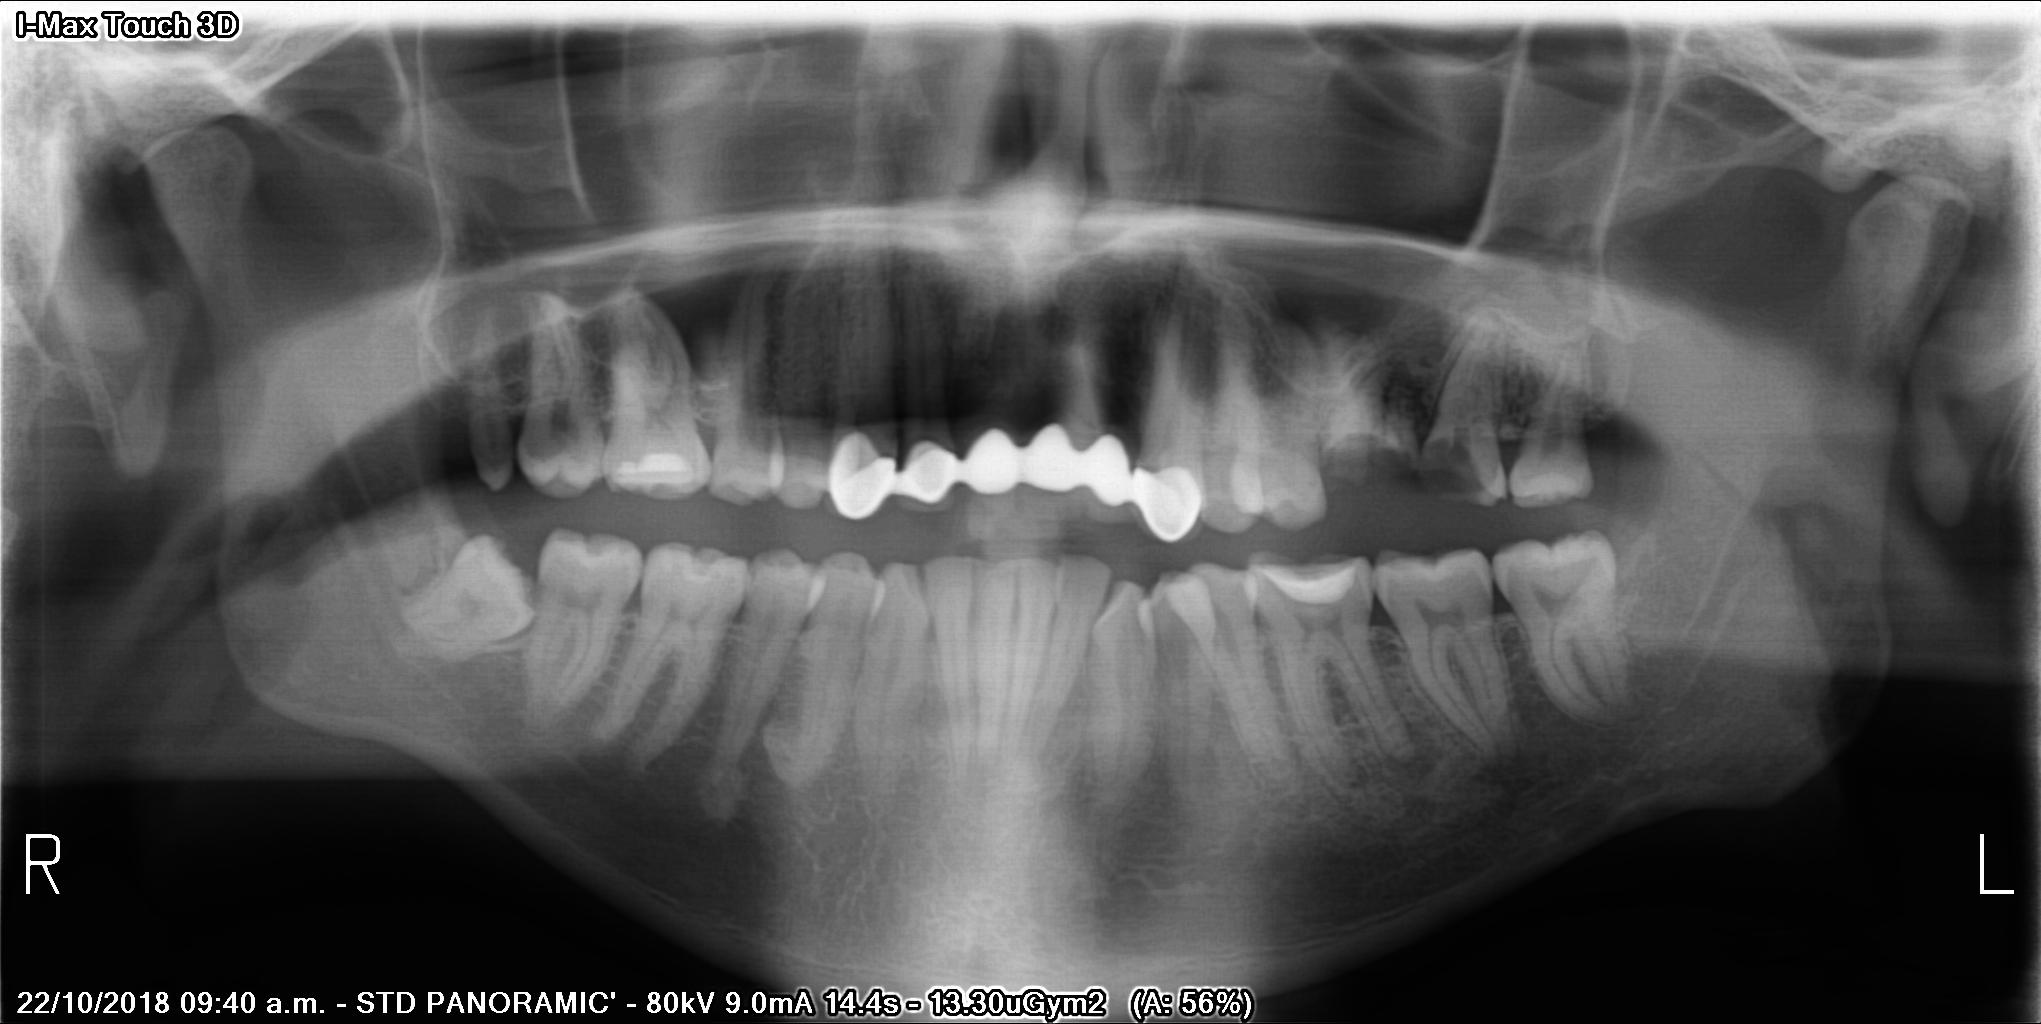Çürük: (819, 427, 905, 524), (1250, 550, 1366, 614), (607, 439, 708, 504), (1133, 457, 1201, 547), (905, 434, 958, 525)
Çürük Bölgesi: (1321, 432, 1406, 498), (1419, 430, 1482, 507)
